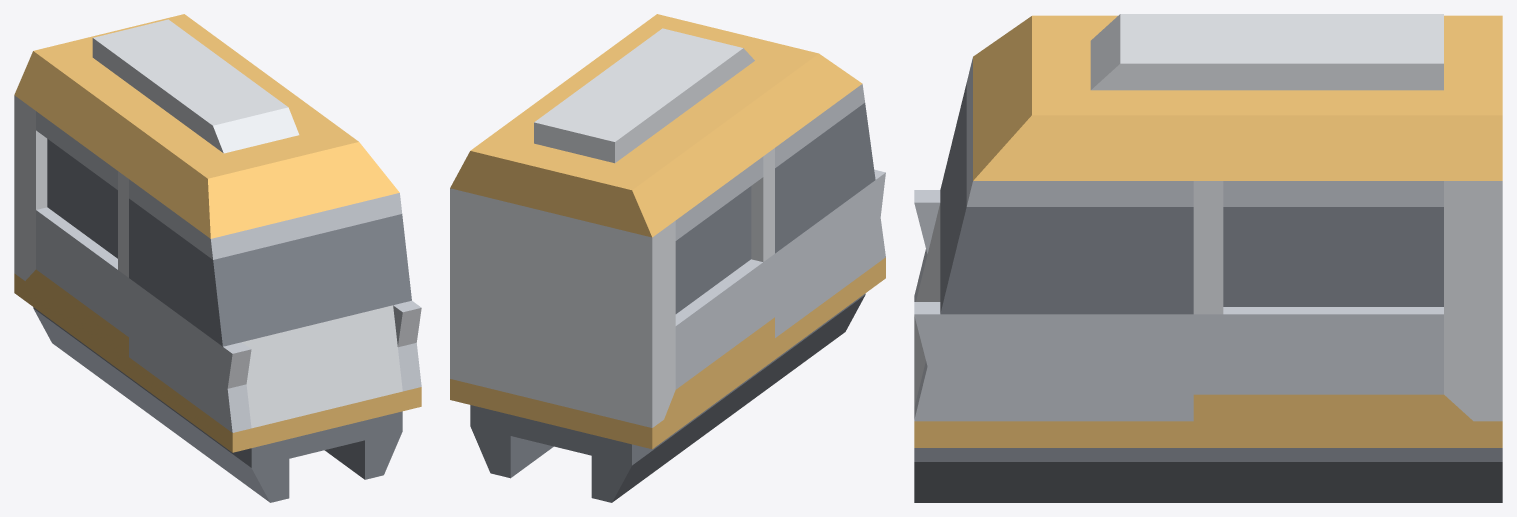
The model's file is monorail_trainEnd.glb.
3 renders of one model, left to right at view 1: azimuth 30°, elevation 25°; view 2: azimuth 150°, elevation 25°; view 3: azimuth 270°, elevation 25°, orthographic. The views are drawn at different scales.
Visible parts, largest first — view 1: monorail_trainEnd; view 2: monorail_trainEnd; view 3: monorail_trainEnd.
Part boxes in pixels (x1,y1,x2,y2): monorail_trainEnd: (14,14,421,502); monorail_trainEnd: (450,14,885,502); monorail_trainEnd: (914,14,1502,502).
Size of the model in its own units: 0.5 by 0.8 by 1.
